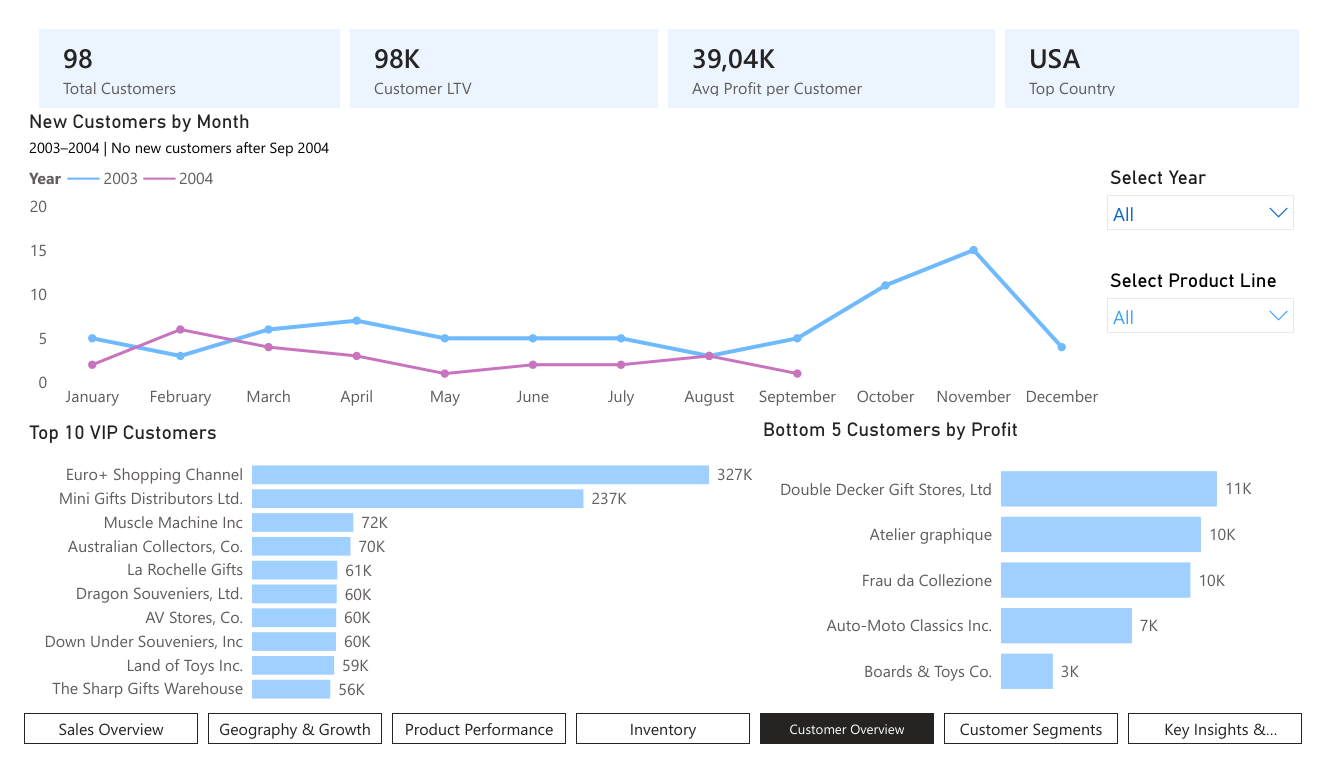

What the dashboard file says about the page in this screenshot:
{"tool":"powerbi","page":{"name":"Customer Overview","canvas":[1280,720],"ordinal":4},"visuals":[{"type":"cardVisual","fields":{"Data":["_Measures.Total Customers"]},"box":[9.6,0,311.5,89.2],"z":0},{"type":"cardVisual","fields":{"Data":["_Measures.Customer LTV"]},"box":[321.1,0,318.4,89.2],"z":1000},{"type":"cardVisual","fields":{"Data":["_Measures.Avg Profit per Customer"]},"box":[639.5,0,336.2,89.2],"z":2000},{"type":"cardVisual","fields":{"Data":["_Measures.Top Country"]},"box":[975.6,0,304.6,89.2],"z":3000},{"type":"barChart","title":"Top 10 VIP Customers","fields":{"Category":["customers.customerName"],"Y":["_Measures.Total Profit"]},"box":[0,396.6,734.1,292.3],"z":4000},{"type":"lineChart","title":"New Customers by Month","fields":{"Category":["DateTable.Month Name"],"Y":["_Measures.New Customers"],"Series":["DateTable.Year"]},"box":[0,86.4,1084.1,307.4],"z":5000},{"type":"slicer","fields":{"Values":["DateTable.Year"]},"box":[1073.1,137.2,207.2,76.8],"z":6000},{"type":"slicer","fields":{"Values":["products.productLine"]},"box":[1073.1,240.1,207.2,93.3],"z":7000},{"type":"clusteredBarChart","title":"Bottom 5 Customers by Profit","fields":{"Category":["customers.customerName"],"Y":["_Measures.Total Profit"]},"box":[734.1,393.8,546.1,295],"z":8000},{"type":"pageNavigator","box":[0,688.9,1280.3,31.6],"z":9000}]}

Visuals, with their boxes in screenshot pixels (x1, y1, x2, y2), scaled from the page's 1280x720 canvas onto the 1328x768 screenshot:
cardVisual - _Measures.Total Customers: select_region(10, 0, 333, 95)
cardVisual - _Measures.Customer LTV: select_region(333, 0, 663, 95)
cardVisual - _Measures.Avg Profit per Customer: select_region(663, 0, 1012, 95)
cardVisual - _Measures.Top Country: select_region(1012, 0, 1327, 95)
"Top 10 VIP Customers" barChart: select_region(0, 423, 762, 735)
"New Customers by Month" lineChart: select_region(0, 92, 1125, 420)
slicer - DateTable.Year: select_region(1113, 146, 1327, 228)
slicer - products.productLine: select_region(1113, 256, 1327, 356)
"Bottom 5 Customers by Profit" clusteredBarChart: select_region(762, 420, 1327, 735)
pageNavigator: select_region(0, 735, 1327, 767)
